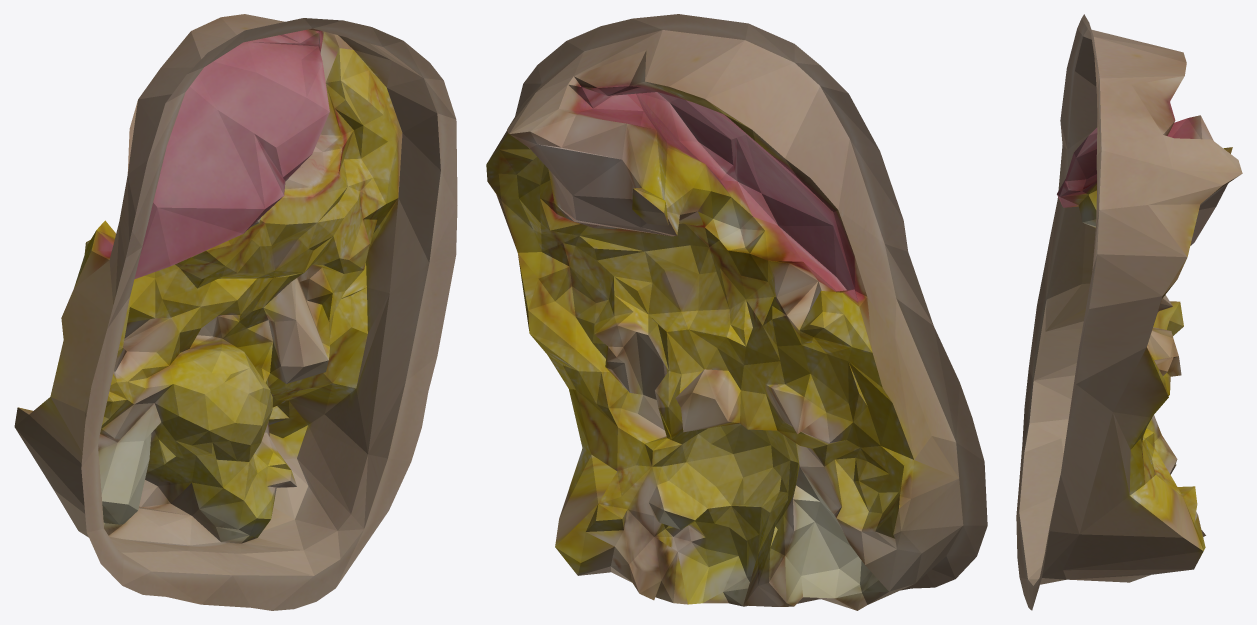
File: ruth_1000.OBJ
The picture shows the model from 3 angles, left to right: view 1: azimuth 30°, elevation 25°; view 2: azimuth 150°, elevation 25°; view 3: azimuth 270°, elevation 25°; orthographic projection. The views are drawn at different scales.
Visible parts, largest first — view 1: ruth_1000_Sharp_fusion_1; view 2: ruth_1000_Sharp_fusion_1; view 3: ruth_1000_Sharp_fusion_1.
Boxes of the visible parts, x1,y1,x2,y2 form: ruth_1000_Sharp_fusion_1: (14, 14, 457, 610); ruth_1000_Sharp_fusion_1: (486, 14, 987, 610); ruth_1000_Sharp_fusion_1: (1016, 14, 1242, 610).
Bounding box in the file's own units: 0.2535 × 0.3366 × 0.1222.
